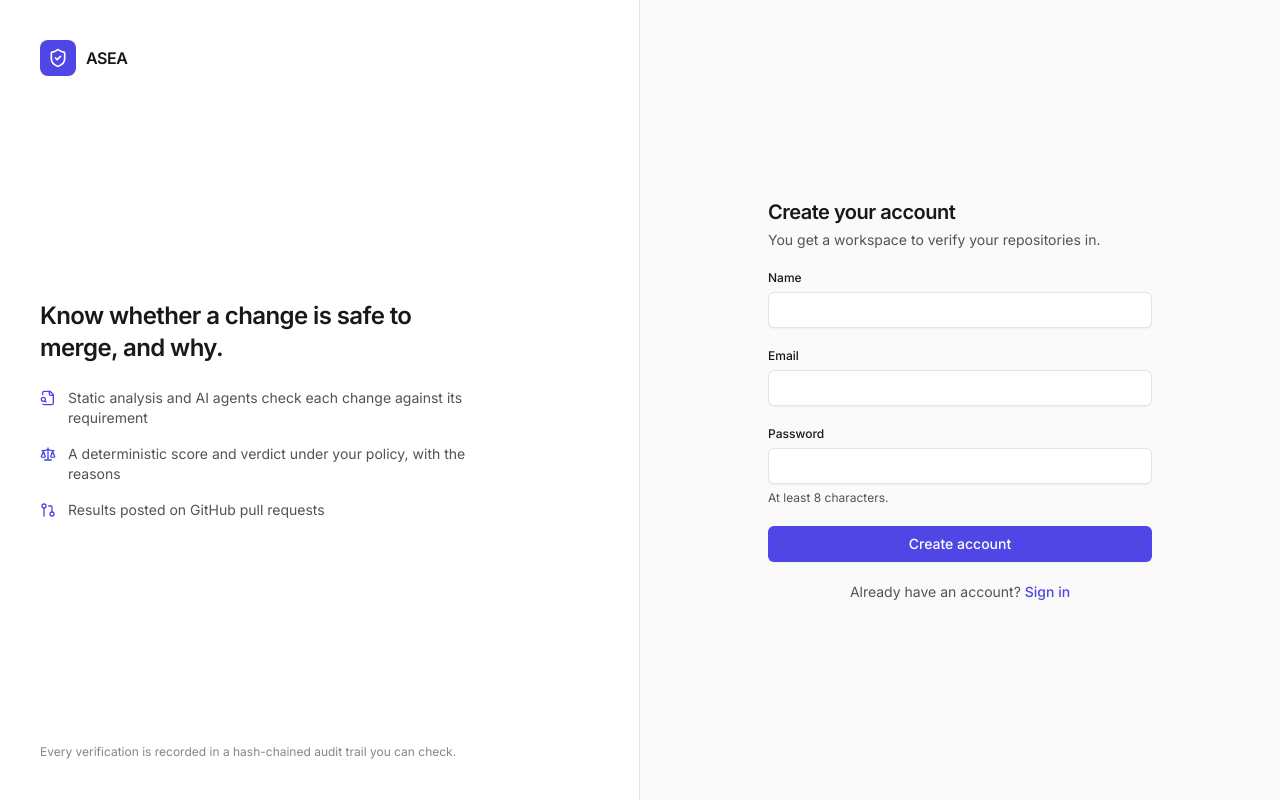
Test: application workflows › registers an account, restores the new session, and loads the dashboard
The width and height of the screenshot is (1280, 800).
Type "Dana Reviewer" into the field labelled "Name" at coordinates (960, 310), box [768,292,1152,328]
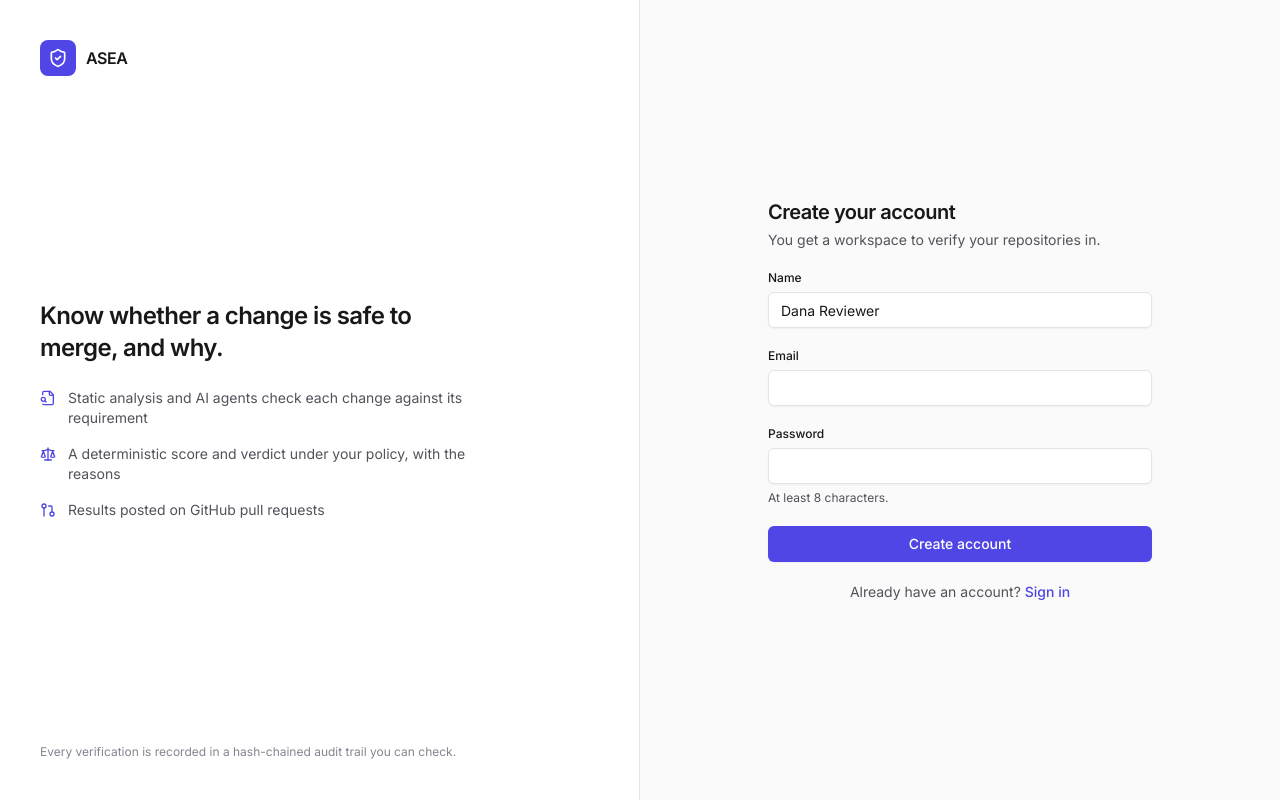
Type "dana@example.com" into the field labelled "Email" at coordinates (960, 388), box [768,370,1152,406]
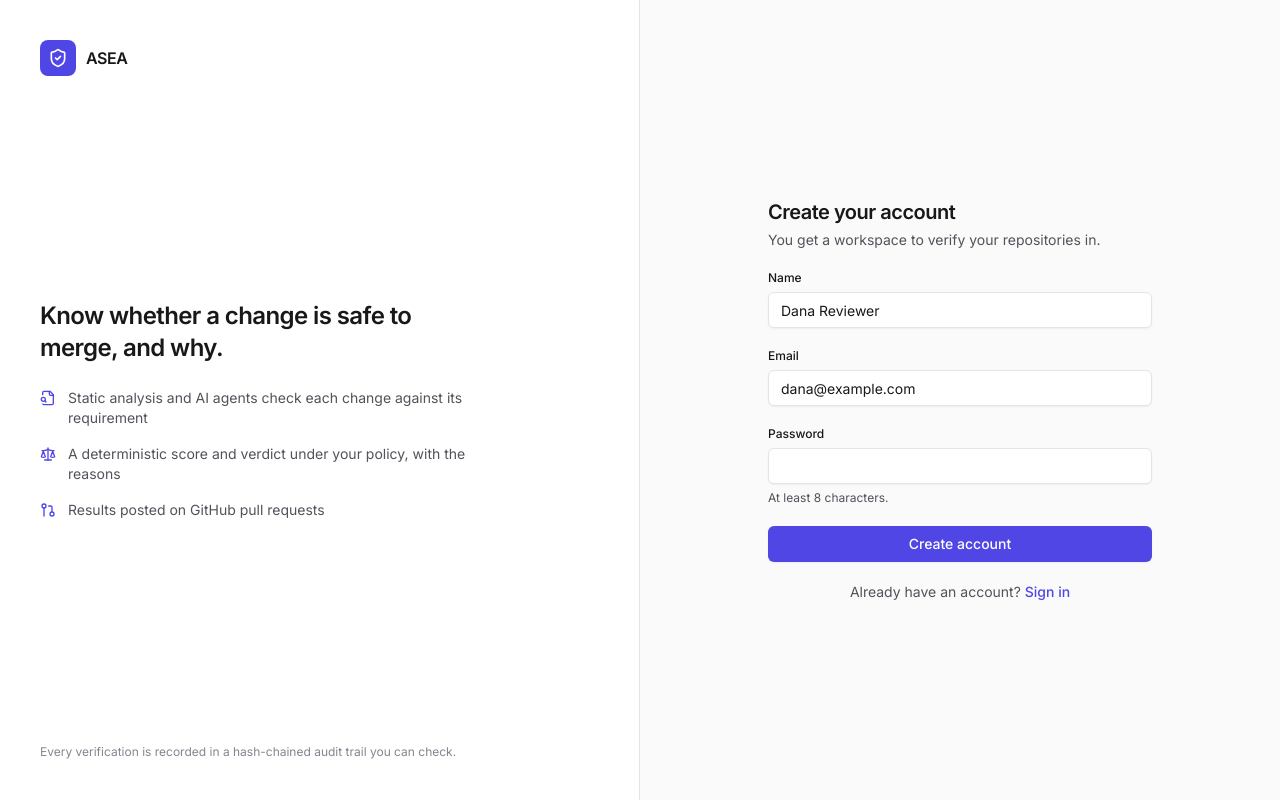
Type "correct-horse-22" into the password field labelled "Password" at coordinates (960, 466), box [768,448,1152,484]
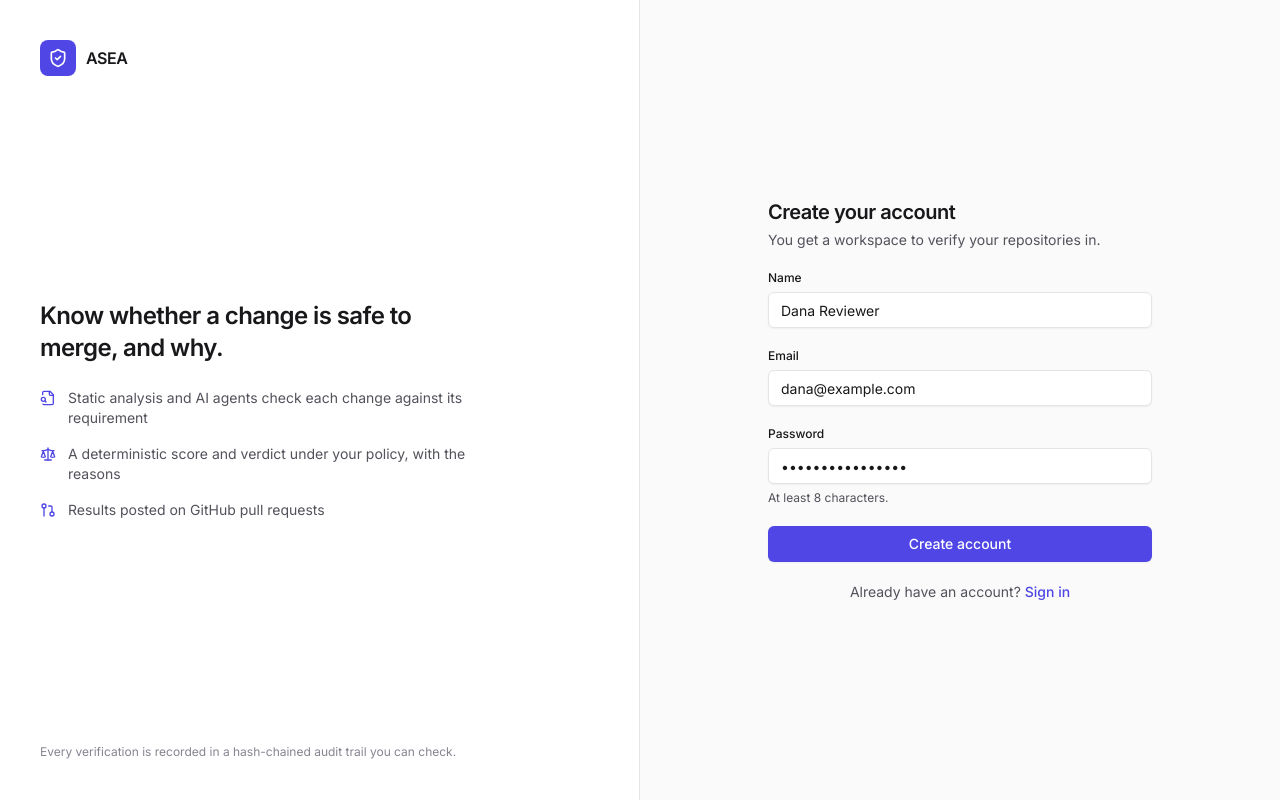
Click the button "Create account" at coordinates (960, 544), box [768,526,1152,562]
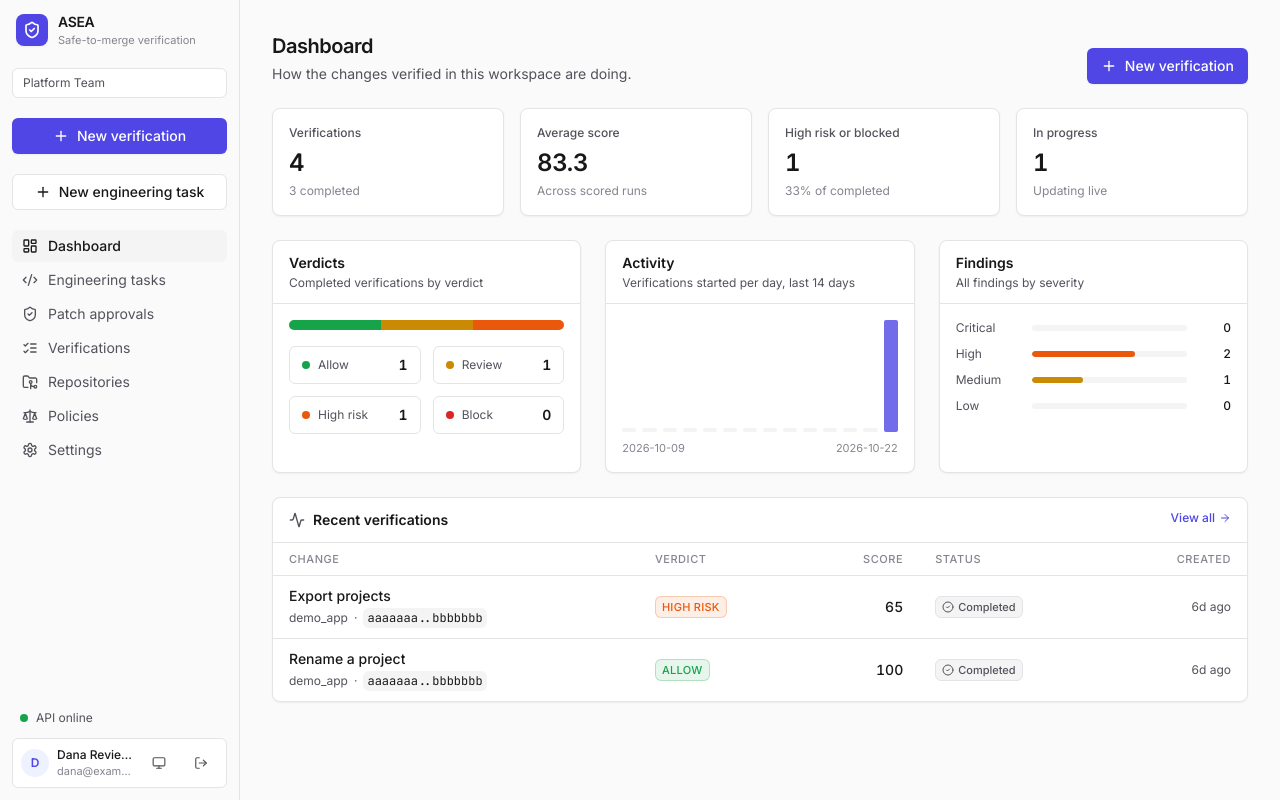
Check: the heading "Dashboard" is shown, box [272,34,373,58]
